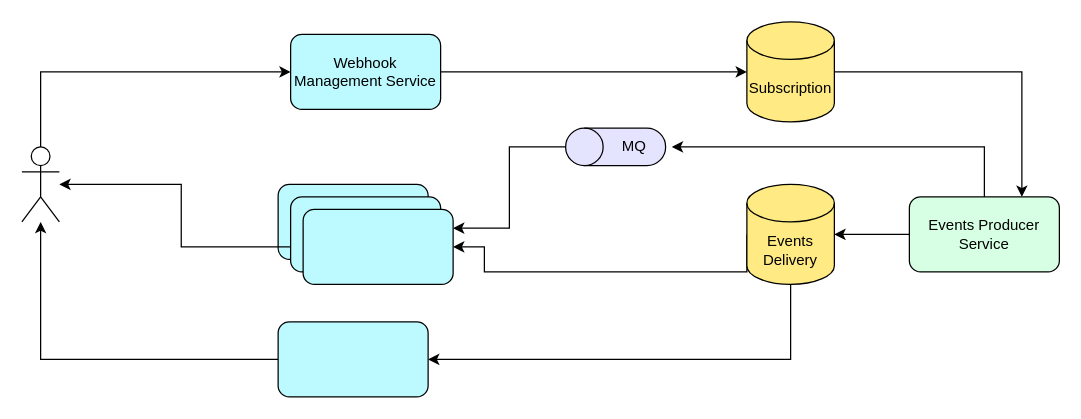
Image size: 1081x419. Some labels were removed from this diagram. Each missing label, with the box of its shape:
Client: (21, 146, 59, 222)
Dispatcher Service Workers: (302, 208, 453, 284)
Retry Service: (277, 321, 428, 397)
